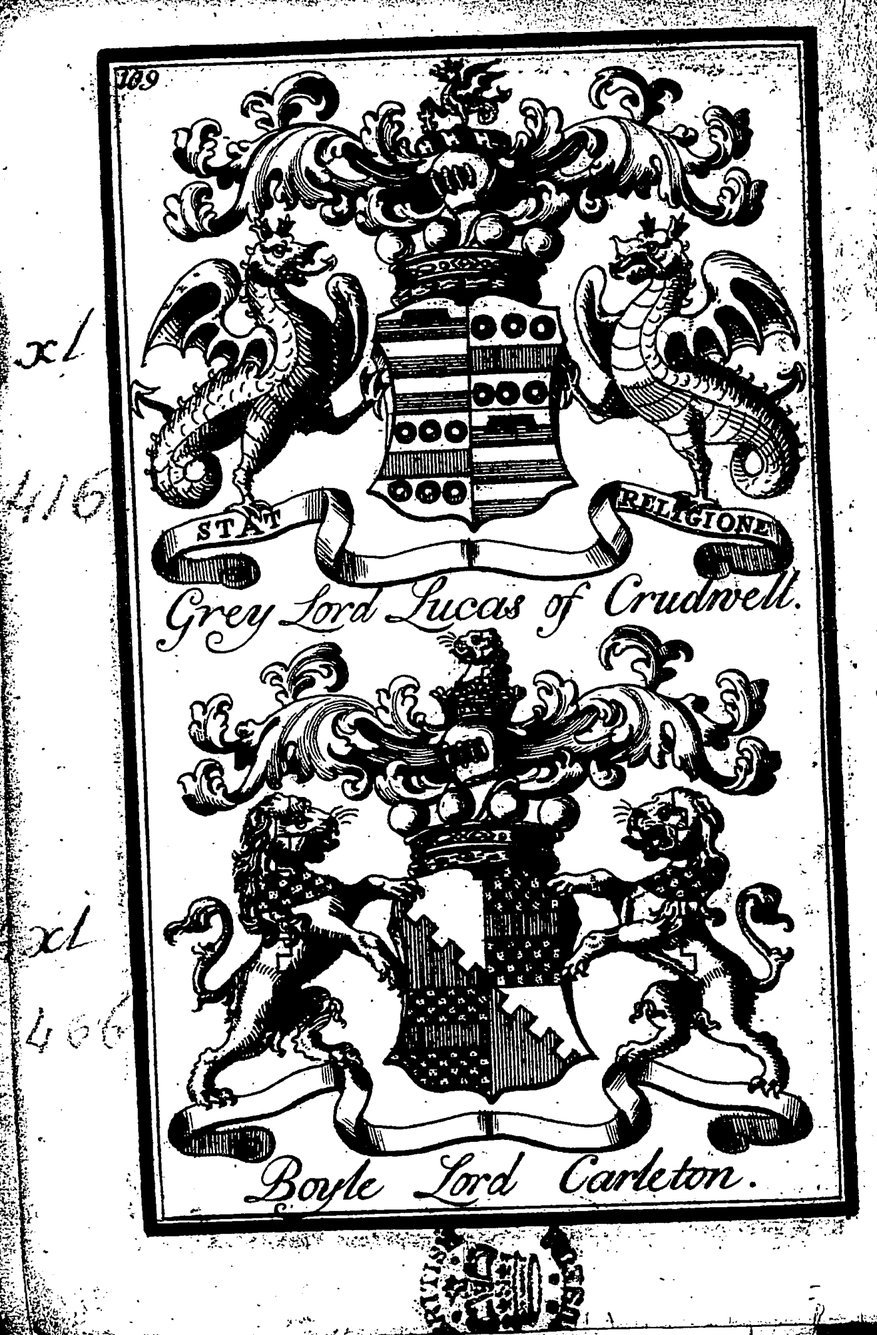coat_of_arms: (127, 58, 804, 642), (149, 628, 833, 1200)
